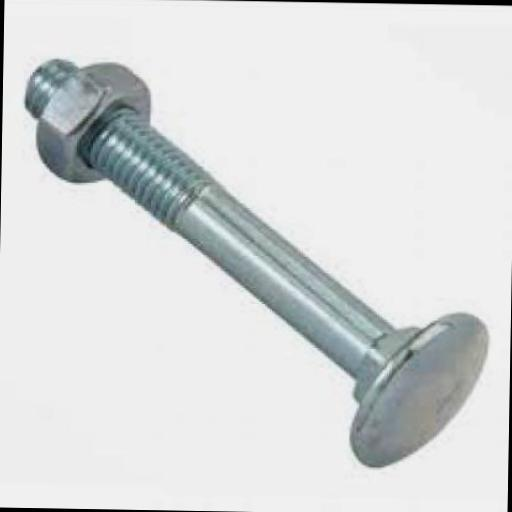metal: (20, 58, 497, 470), (38, 62, 152, 187)
